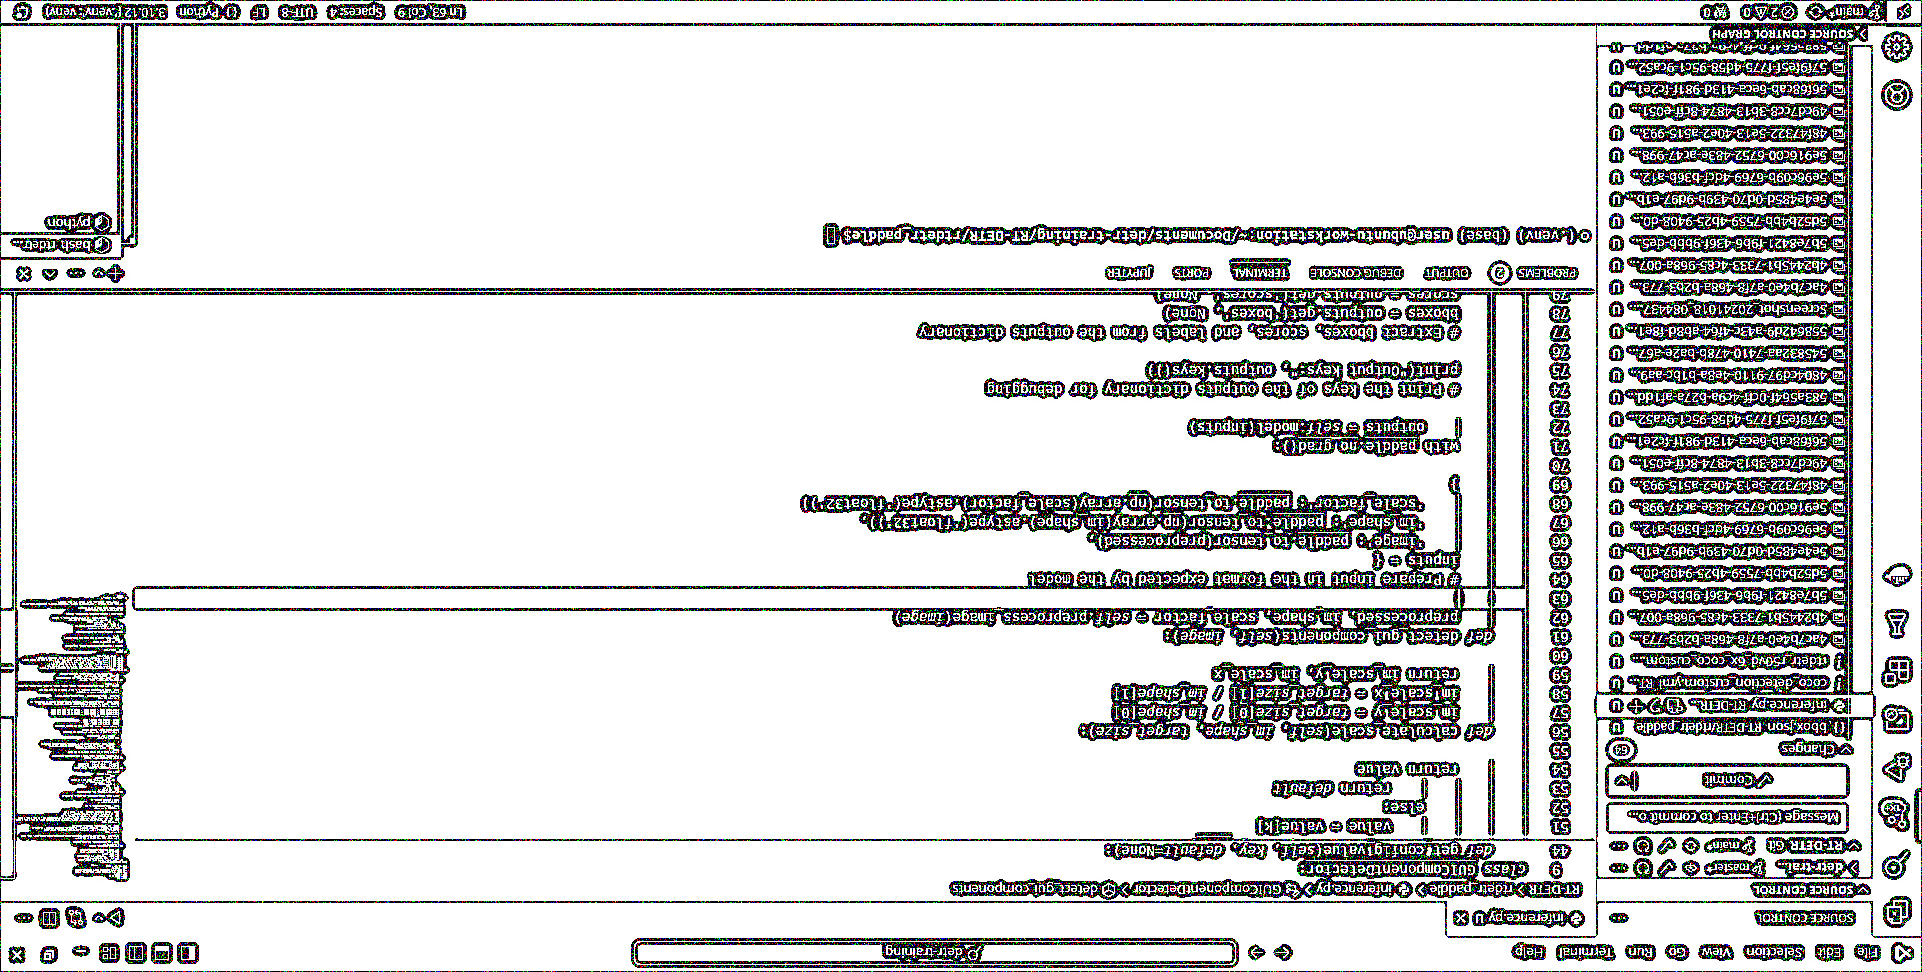Accounts: (1882, 79, 1914, 116)
Activity Bar: (1873, 24, 1922, 931)
Close: (8, 949, 27, 965)
Editor: (3, 285, 1603, 941)
Explorer: (1883, 894, 1917, 928)
Extensions: (1880, 655, 1917, 693)
Manage: (1881, 32, 1915, 66)
Maximize: (38, 948, 63, 965)
Minimize: (71, 945, 90, 967)
Panel: (3, 23, 1603, 296)
Primary Side Bar: (1600, 26, 1876, 943)
Run and Debug: (1881, 748, 1918, 788)
Search: (1882, 845, 1920, 886)
Search Bar: (629, 939, 1243, 970)
Source Control: (1880, 796, 1918, 839)
Status Bar: (3, 3, 1921, 31)
Testing: (1879, 607, 1917, 647)
Top Bar: (3, 933, 1920, 971)
